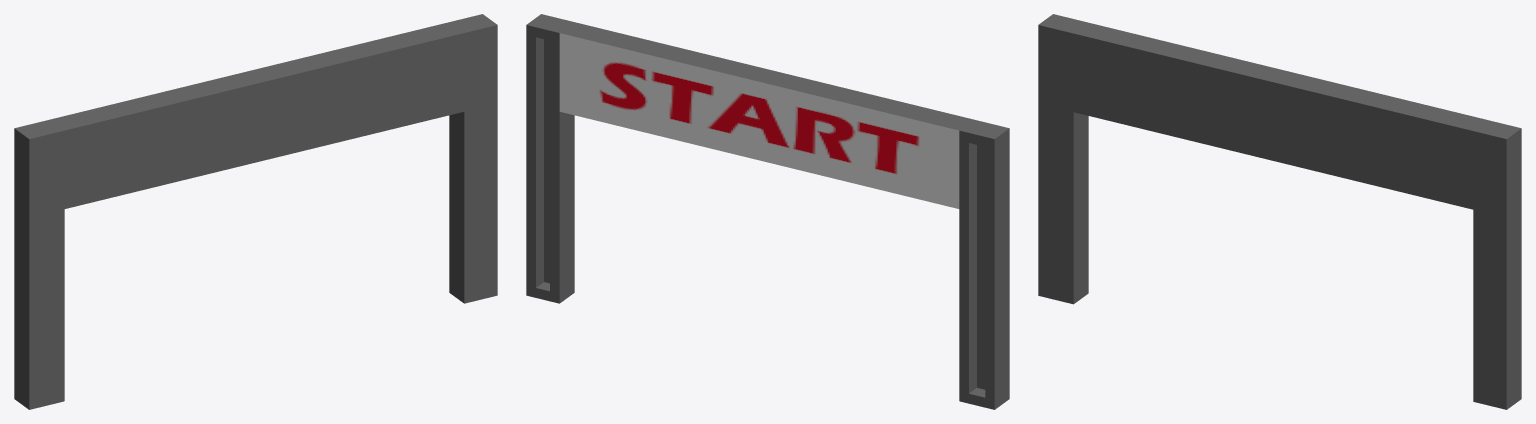
File: start.fbx
3 views of the same model, side by side, from view 1: azimuth 30°, elevation 25°; view 2: azimuth 150°, elevation 25°; view 3: azimuth 330°, elevation 25° (orthographic).
Parts seen in each view (by area): view 1: Cube; view 2: Cube; view 3: Cube.
Boxes of the visible parts, bbox=[...] form: Cube: bbox=[14, 14, 497, 409]; Cube: bbox=[526, 14, 1009, 409]; Cube: bbox=[1038, 14, 1521, 409].
Bounding box in the file's own units: 923 × 510 × 50.97.
Materials: 1 (1 with a texture image).
